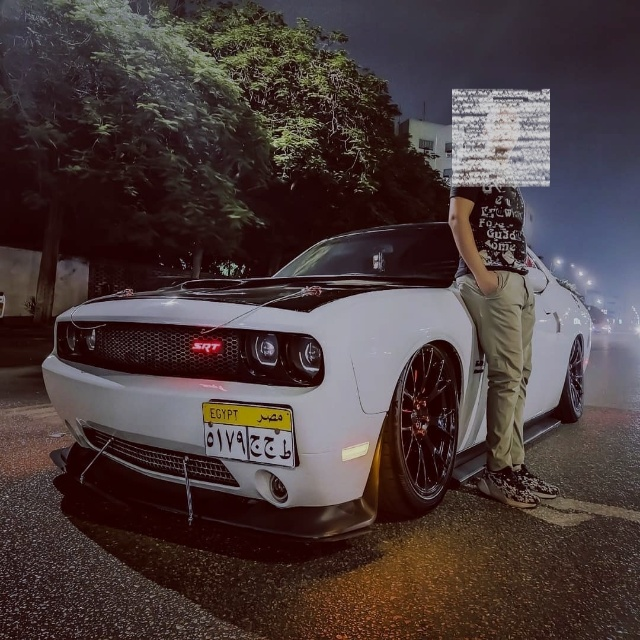License Plate: (201, 400, 297, 472)
